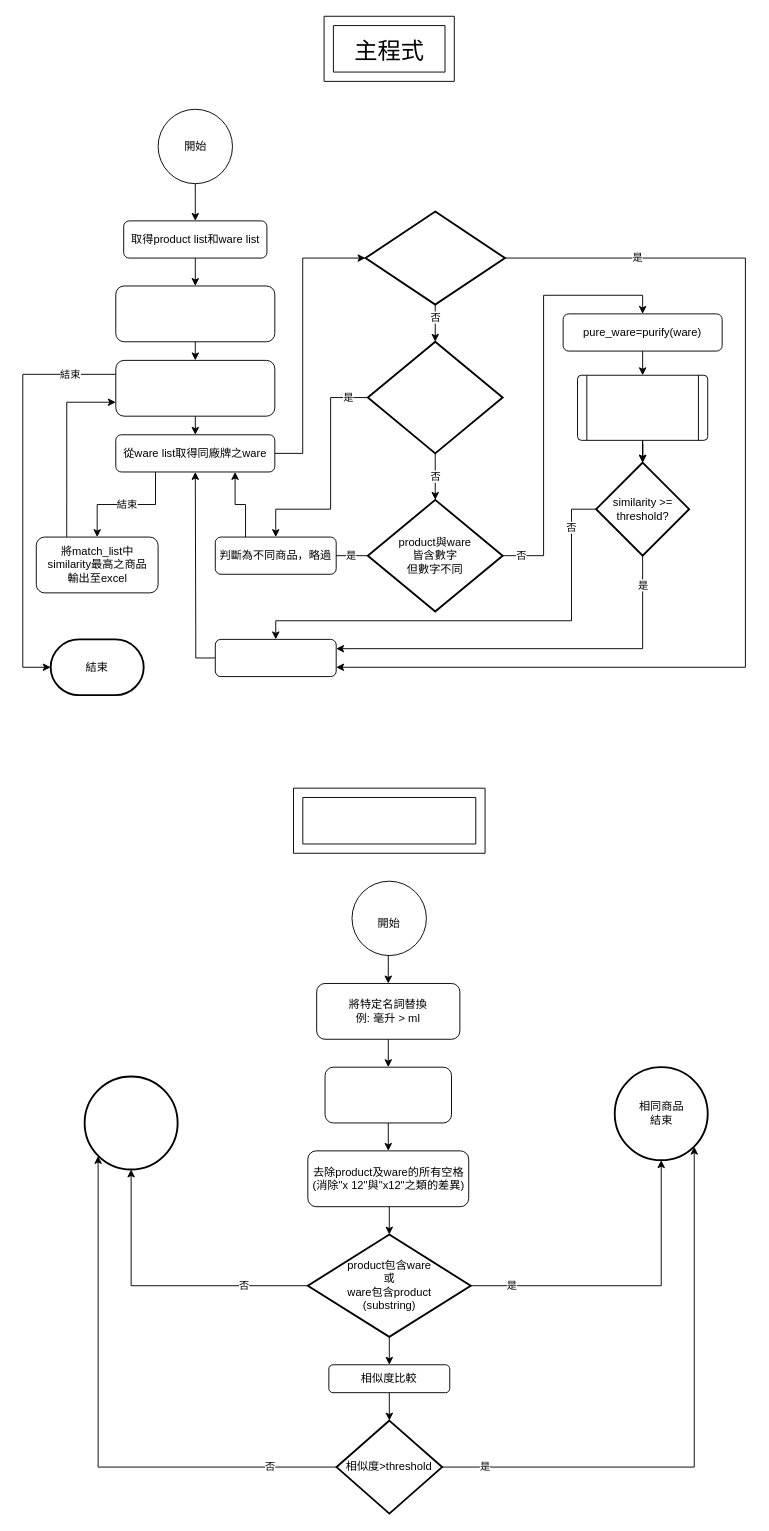
The diagram is 769 pixels wide and 1531 high, and some of its shapes have lost their labels. Here are the shapes that lost their labels. From the top down, the centre of each, then its label:
(x=434, y=257): product包含ware 或ware包含product (substring)
(x=195, y=313): 將ware_list以廠牌分類轉換成dict[str(廠牌),list[str(完整品名)]]
(x=195, y=387): 從product list取得product pure_product = purify(product) match_list = []
(x=434, y=397): ware沒有product 所含有的必要keyword (顏色etc)
(x=642, y=407): 比較pure_product及pure_ware 之相似性 並數值化為similarity
(x=275, y=657): 判斷為相同商品 加入match_list
(x=389, y=820): 相似度比較函式
(x=388, y=1094): 將product及ware轉變成小寫(字串相似度比較大小寫有差)
(x=130, y=1122): 不同商品 結束
